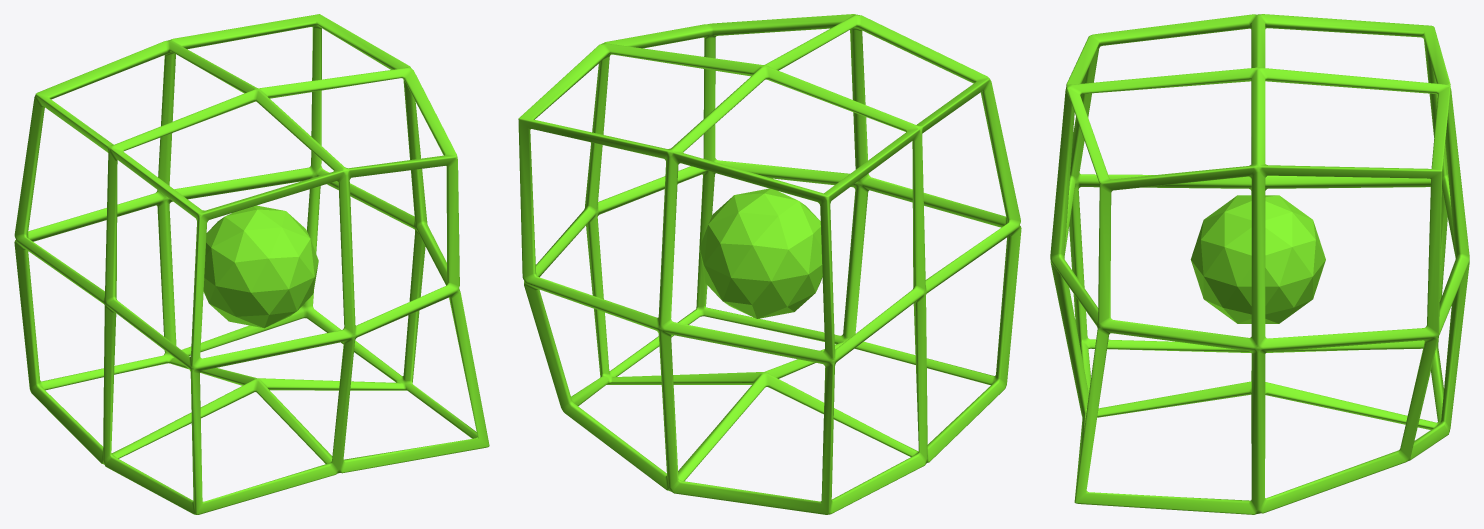
The model's file is abstract-object.glb.
The picture shows the model from 3 angles, left to right: view 1: azimuth 30°, elevation 25°; view 2: azimuth 150°, elevation 25°; view 3: azimuth 270°, elevation 25°; orthographic projection. The views are drawn at different scales.
Parts seen in each view (by area): view 1: Cube.001, Icosphere.001; view 2: Cube.001, Icosphere.001; view 3: Cube.001, Icosphere.001.
Boxes of the visible parts, x1=… form: Cube.001: x1=14, y1=14, x2=489, y2=514; Icosphere.001: x1=203, y1=205, x2=318, y2=328; Cube.001: x1=518, y1=14, x2=1021, y2=514; Icosphere.001: x1=699, y1=188, x2=822, y2=318; Cube.001: x1=1050, y1=14, x2=1469, y2=514; Icosphere.001: x1=1190, y1=195, x2=1325, y2=323.
Bounding box in the file's own units: 3.4 × 3.4 × 3.53.
